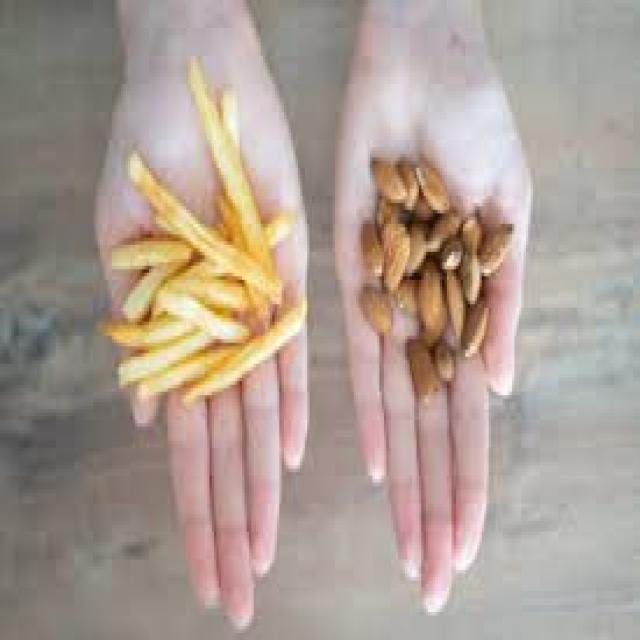Fries: (103, 101, 321, 402)
